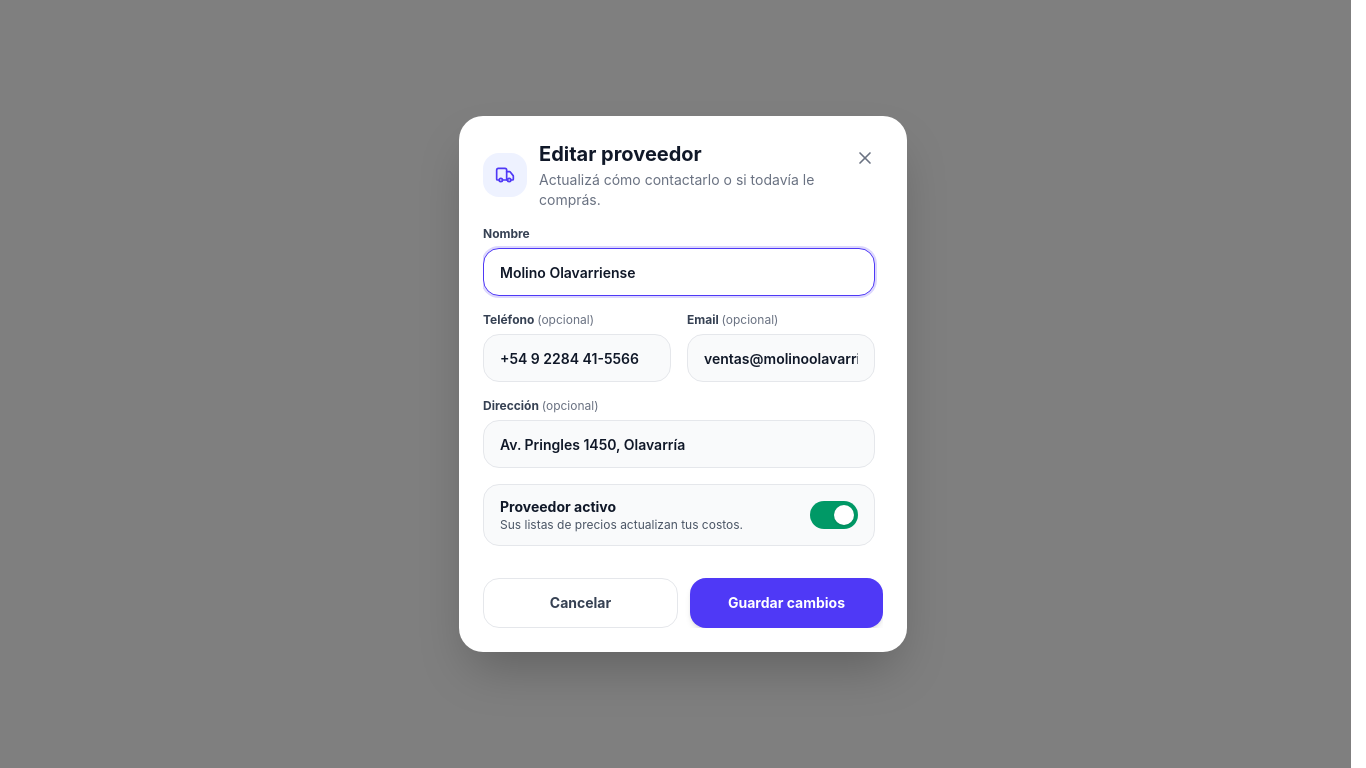
Test case: SupplierFormDialog › la edición precarga los datos, permite desactivar y borrar un campo
The width and height of the screenshot is (1366, 768).
Later steps or results of the test are not shown.
Expected: the dialog "Editar proveedor" is shown, [459, 116, 907, 652]
Expected: the field labelled "Nombre" holds "Molino Olavarriense", [483, 248, 875, 296]
Click the switch named "Proveedor activo".
click(834, 515)  # box [810, 501, 858, 529]
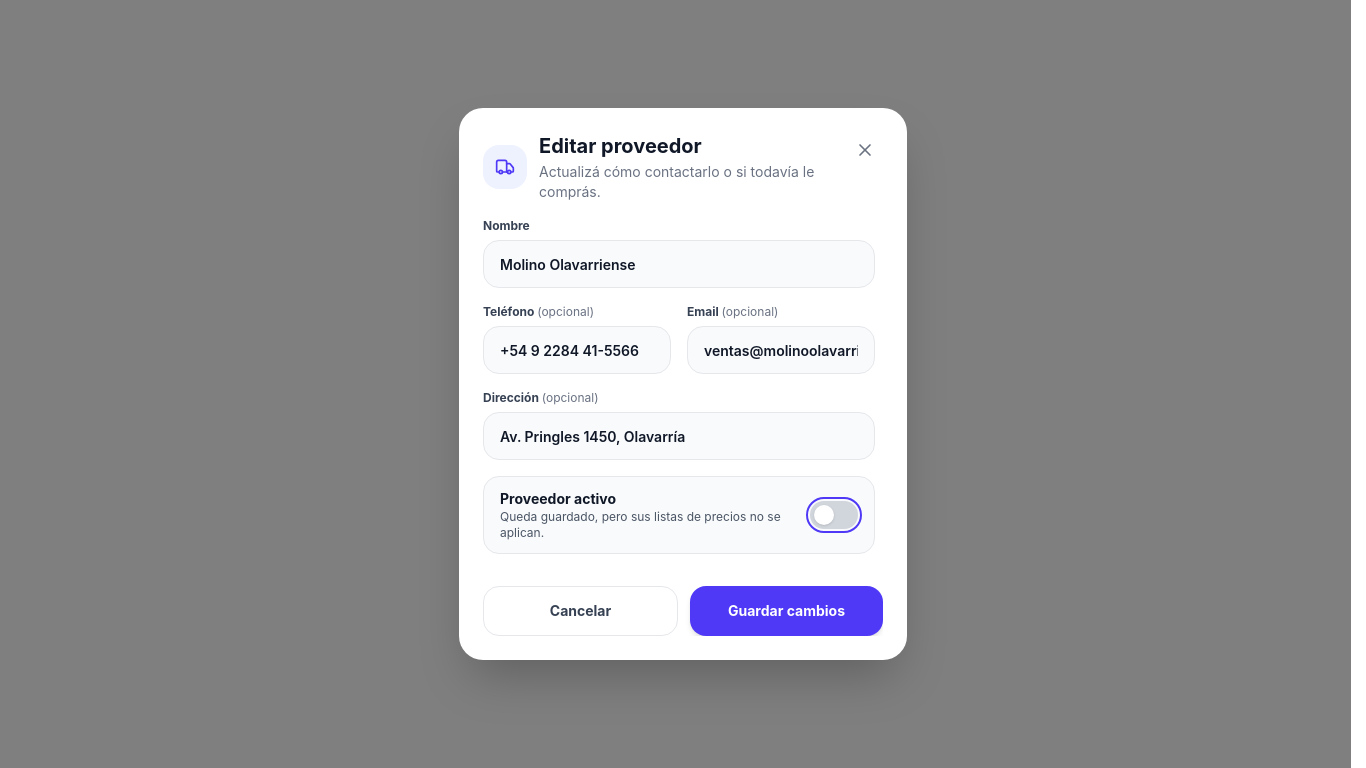
Expected: the switch named "Proveedor activo" is not checked, [810, 501, 858, 529]
